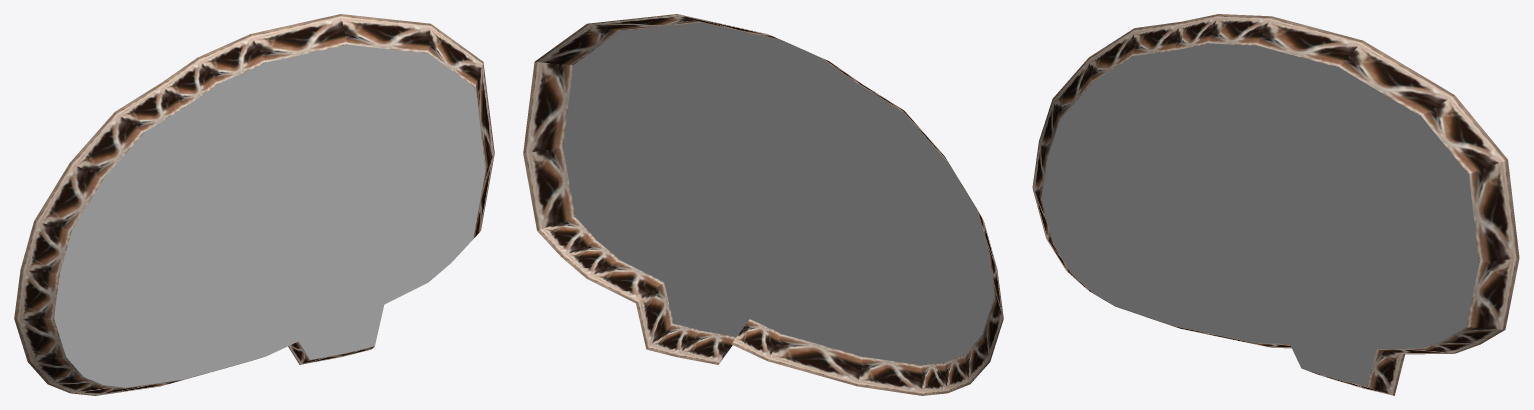
The model's file is SK_ScannerHead.fbx.
3 renders of one model, left to right at view 1: azimuth 30°, elevation 25°; view 2: azimuth 150°, elevation 25°; view 3: azimuth 330°, elevation 25°, orthographic.
Parts seen in each view (by area): view 1: Scanner_Head; view 2: Scanner_Head; view 3: Scanner_Head.
Part boxes in pixels (box(x1,y1,x2,y2)): Scanner_Head: box(14, 14, 494, 395); Scanner_Head: box(523, 14, 1003, 395); Scanner_Head: box(1032, 14, 1519, 395).
Size of the model in its own units: 74.11 by 50.88 by 4.09.
